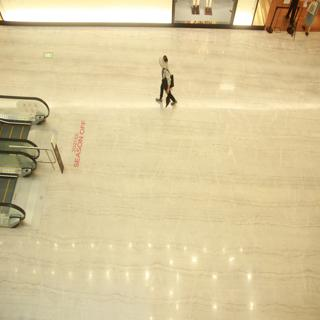person: (145, 46, 192, 118)
